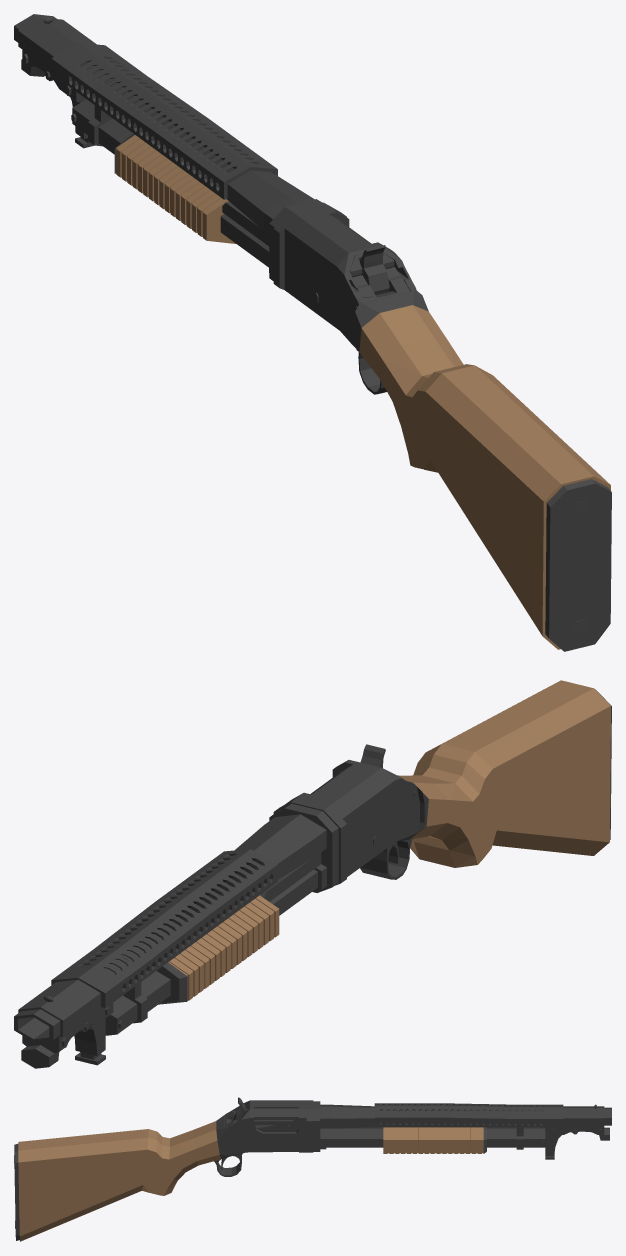
Rendered from shotgun_1.glb.
3 views of the same model, one above another, from view 1: azimuth 30°, elevation 25°; view 2: azimuth 150°, elevation 25°; view 3: azimuth 270°, elevation 25° (orthographic). The views are drawn at different scales.
Visible parts, largest first — view 1: p33_accent, p7_paint, p18_paint, p35_paint, p15_accent, p0_paint, p9_paint, p3_paint, p26_paint, p2_paint, p22_paint; view 2: p33_accent, p7_paint, p18_paint, p15_accent, p0_paint, p9_paint, p3_paint, p2_paint, p17_paint, p27_paint, p16_paint, p14_paint (+1 smaller); view 3: p33_accent, p7_paint, p18_paint, p15_accent, p9_paint, p0_paint, p3_paint, p20_paint, p2_paint, p35_paint, p17_paint, p22_paint (+1 smaller).
Part boxes in pixels (x1,y1,x2,y2): p33_accent: [359, 305, 610, 649]; p7_paint: [51, 43, 277, 199]; p18_paint: [273, 202, 428, 351]; p35_paint: [545, 479, 611, 651]; p15_accent: [116, 135, 235, 243]; p0_paint: [14, 14, 342, 234]; p9_paint: [72, 99, 269, 272]; p3_paint: [18, 17, 113, 70]; p26_paint: [360, 245, 389, 295]; p2_paint: [22, 50, 93, 148]; p22_paint: [349, 267, 410, 302]; p33_accent: [397, 680, 610, 867]; p7_paint: [51, 849, 277, 1008]; p18_paint: [273, 760, 428, 885]; p15_accent: [168, 895, 279, 1000]; p0_paint: [14, 814, 326, 1041]; p9_paint: [105, 864, 326, 1035]; p3_paint: [18, 979, 102, 1036]; p2_paint: [22, 1003, 113, 1065]; p17_paint: [269, 803, 338, 892]; p27_paint: [360, 839, 412, 879]; p16_paint: [261, 852, 321, 901]; p14_paint: [157, 962, 187, 1004]; p33_accent: [18, 1121, 220, 1241]; p7_paint: [374, 1103, 563, 1127]; p18_paint: [216, 1100, 313, 1158]; p15_accent: [383, 1127, 483, 1153]; p9_paint: [320, 1127, 545, 1149]; p0_paint: [320, 1104, 611, 1128]; p3_paint: [563, 1106, 604, 1126]; p20_paint: [242, 1103, 298, 1131]; p2_paint: [545, 1127, 604, 1159]; p35_paint: [14, 1144, 19, 1240]; p17_paint: [313, 1101, 320, 1151]; p22_paint: [225, 1111, 290, 1131].
Size of the model in its own units: 0.0762 by 0.251 by 0.99.
